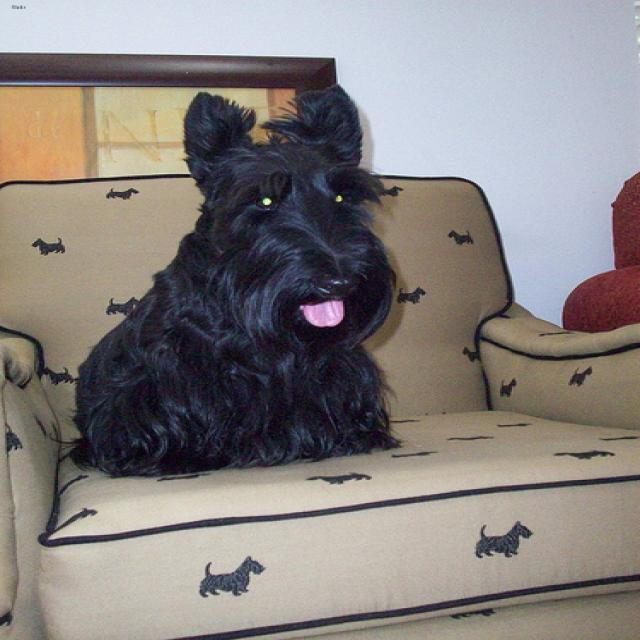dog-scottish_terrier: (61, 60, 413, 479)
